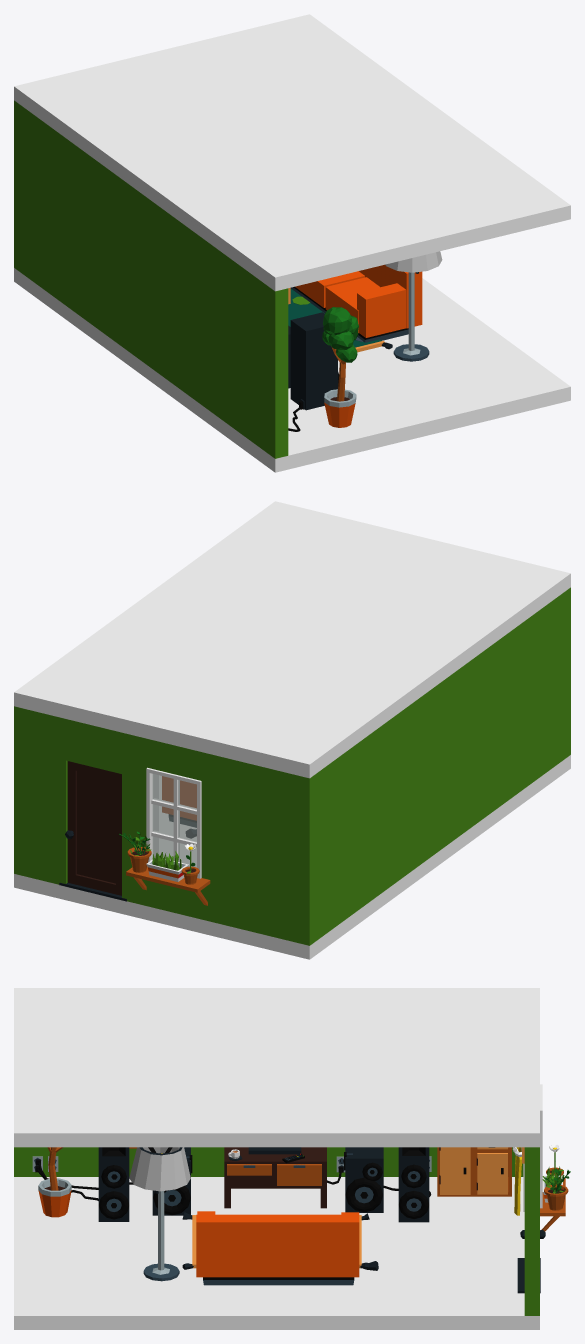
File: livingroom.obj
The picture shows the model from 3 angles, top to bottom: view 1: azimuth 30°, elevation 25°; view 2: azimuth 150°, elevation 25°; view 3: azimuth 270°, elevation 25°; orthographic projection.
Visible parts, largest first — view 1: group265941632.002, group1087830502, group265941632, group1778046054, group15764063, group773169476, group265941632.001, group1158721303, group200242231; view 2: group265941632.002, group1087830502, group878316936, group265941632, group1702814703, group2131969357, group1778046054, group1329124018, group2106700541, group1430211780; view 3: group265941632.002, group265941632, group1778046054, group1087830502, group1075457678, group1158721303, group878316936, group783608269, group908259242, group15764063, group150326201, group773169476 (+7 smaller).
Boxes of the visible parts, bbox=[...] form: group265941632.002: bbox=[14, 14, 570, 291]; group1087830502: bbox=[14, 100, 290, 458]; group265941632: bbox=[14, 268, 570, 472]; group1778046054: bbox=[291, 264, 422, 342]; group15764063: bbox=[290, 312, 339, 410]; group773169476: bbox=[322, 307, 358, 427]; group265941632.001: bbox=[280, 387, 570, 471]; group1158721303: bbox=[385, 251, 442, 361]; group200242231: bbox=[288, 288, 392, 352]; group265941632.002: bbox=[14, 501, 570, 778]; group1087830502: bbox=[296, 587, 570, 945]; group878316936: bbox=[14, 706, 296, 942]; group265941632: bbox=[14, 755, 570, 959]; group1702814703: bbox=[65, 761, 121, 895]; group2131969357: bbox=[146, 767, 201, 878]; group1778046054: bbox=[162, 776, 196, 827]; group1329124018: bbox=[126, 866, 210, 905]; group2106700541: bbox=[146, 851, 188, 881]; group1430211780: bbox=[119, 831, 151, 872]; group265941632.002: bbox=[14, 988, 539, 1147]; group265941632: bbox=[14, 1177, 539, 1329]; group1778046054: bbox=[196, 1211, 359, 1285]; group1087830502: bbox=[14, 1147, 523, 1176]; group1075457678: bbox=[224, 1147, 326, 1208]; group1158721303: bbox=[129, 1147, 190, 1281]; group878316936: bbox=[522, 1147, 539, 1315]; group783608269: bbox=[344, 1147, 383, 1212]; group908259242: bbox=[398, 1147, 429, 1222]; group15764063: bbox=[98, 1147, 129, 1221]; group150326201: bbox=[440, 1147, 470, 1194]; group773169476: bbox=[38, 1147, 71, 1217].
Size of the model in its own units: 2.68 by 1.69 by 4.34.
